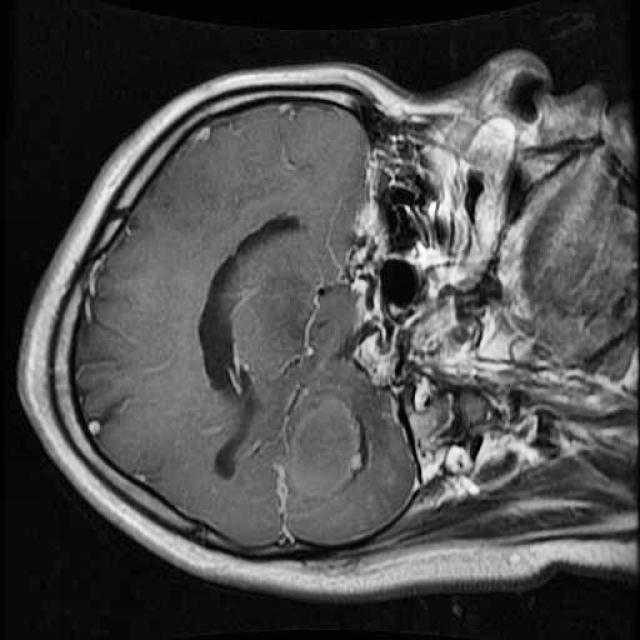Non-Tumor: (264, 364, 394, 511)
